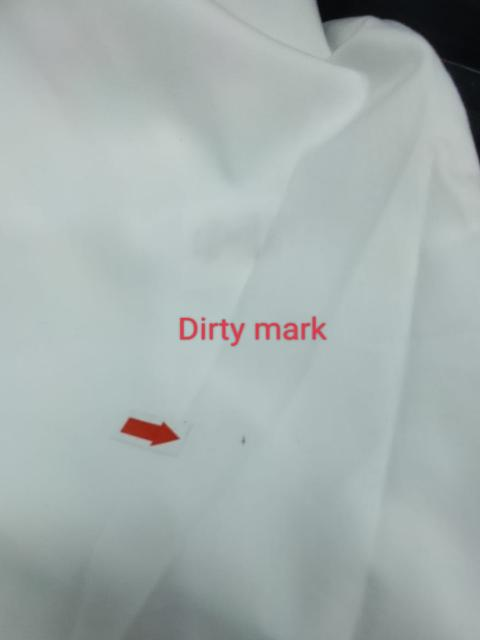Dirty_mark: (237, 434, 248, 448)
